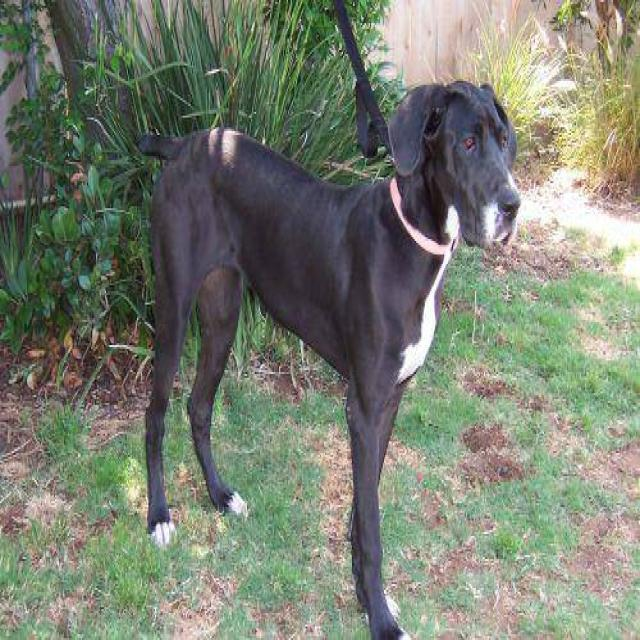dog: (134, 75, 521, 638)
